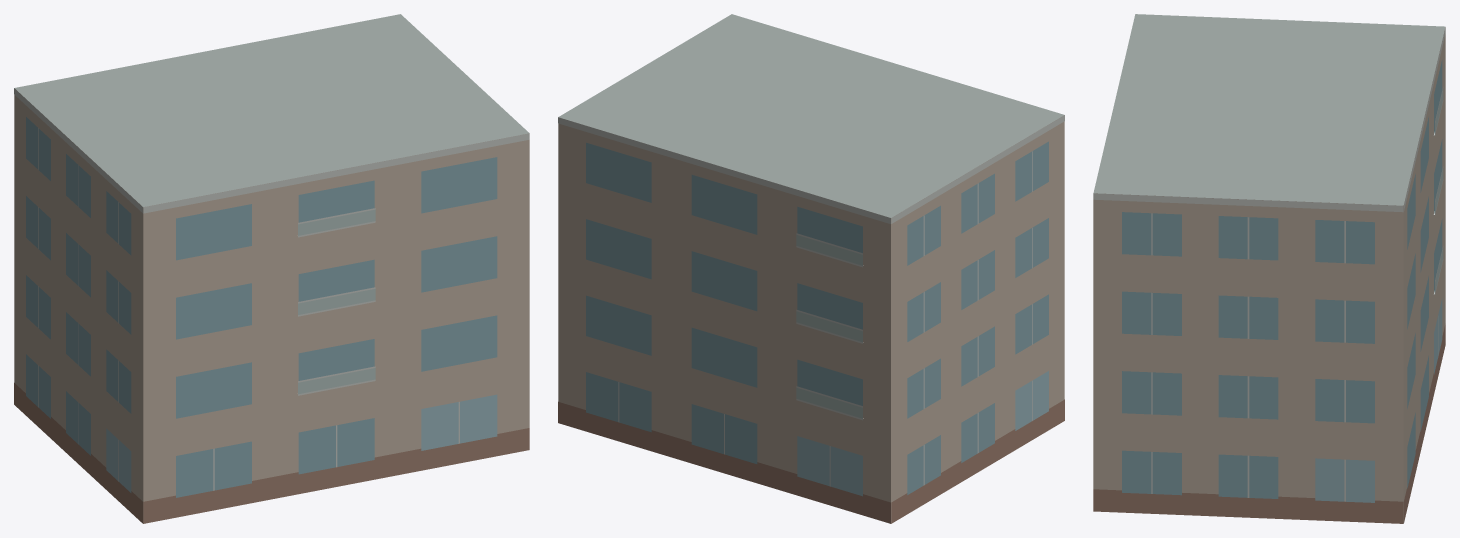
File: survey-upis-33019011.glb
3 renders of one model, left to right at view 1: azimuth 30°, elevation 25°; view 2: azimuth 150°, elevation 25°; view 3: azimuth 270°, elevation 25°, orthographic. The views are drawn at different scales.
Visible parts, largest first — view 1: survey-upis-33019011.tmp; view 2: survey-upis-33019011.tmp; view 3: survey-upis-33019011.tmp.
Part boxes in pixels (bbox=[...]): survey-upis-33019011.tmp: bbox=[14, 14, 529, 523]; survey-upis-33019011.tmp: bbox=[558, 14, 1064, 523]; survey-upis-33019011.tmp: bbox=[1093, 14, 1445, 523].
Bounding box in the file's own units: 15.53 × 12.01 × 12.06.
